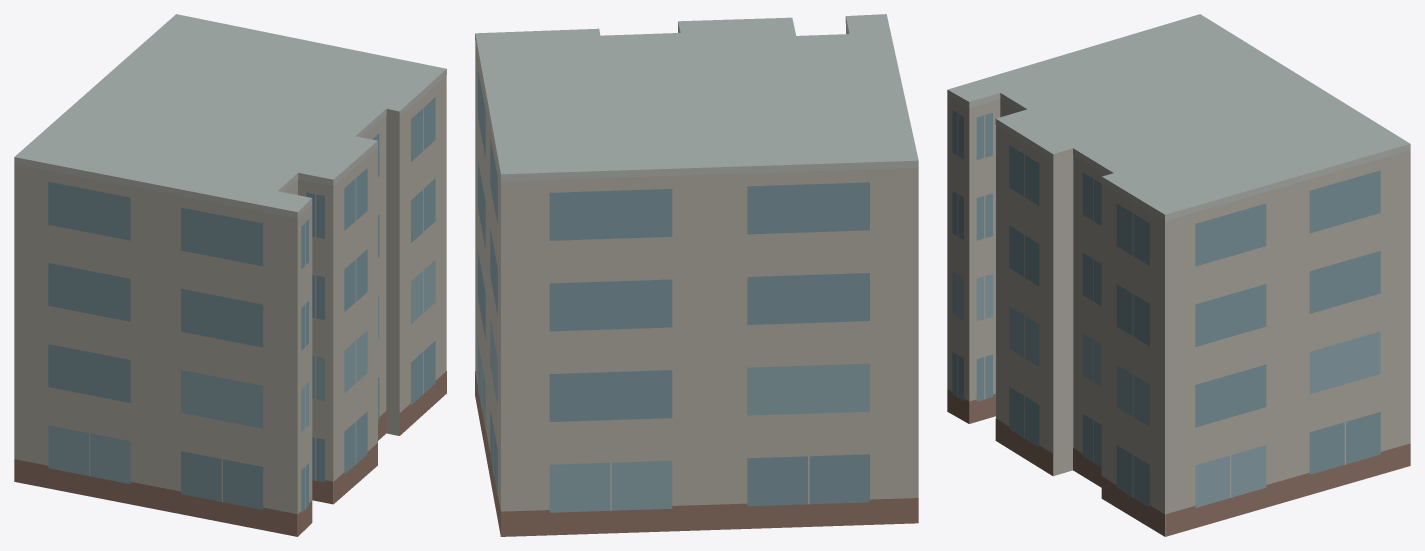
Rendered from survey-upis-32598002.glb.
3 renders of one model, left to right at view 1: azimuth 30°, elevation 25°; view 2: azimuth 150°, elevation 25°; view 3: azimuth 270°, elevation 25°, orthographic. The views are drawn at different scales.
Visible parts, largest first — view 1: survey-upis-32598002.tmp; view 2: survey-upis-32598002.tmp; view 3: survey-upis-32598002.tmp.
Part boxes in pixels (x1=…): survey-upis-32598002.tmp: x1=14, y1=14, x2=446, y2=536; survey-upis-32598002.tmp: x1=475, y1=14, x2=918, y2=536; survey-upis-32598002.tmp: x1=947, y1=14, x2=1410, y2=536.
Bounding box in the file's own units: 16.72 × 12.5 × 16.3.
